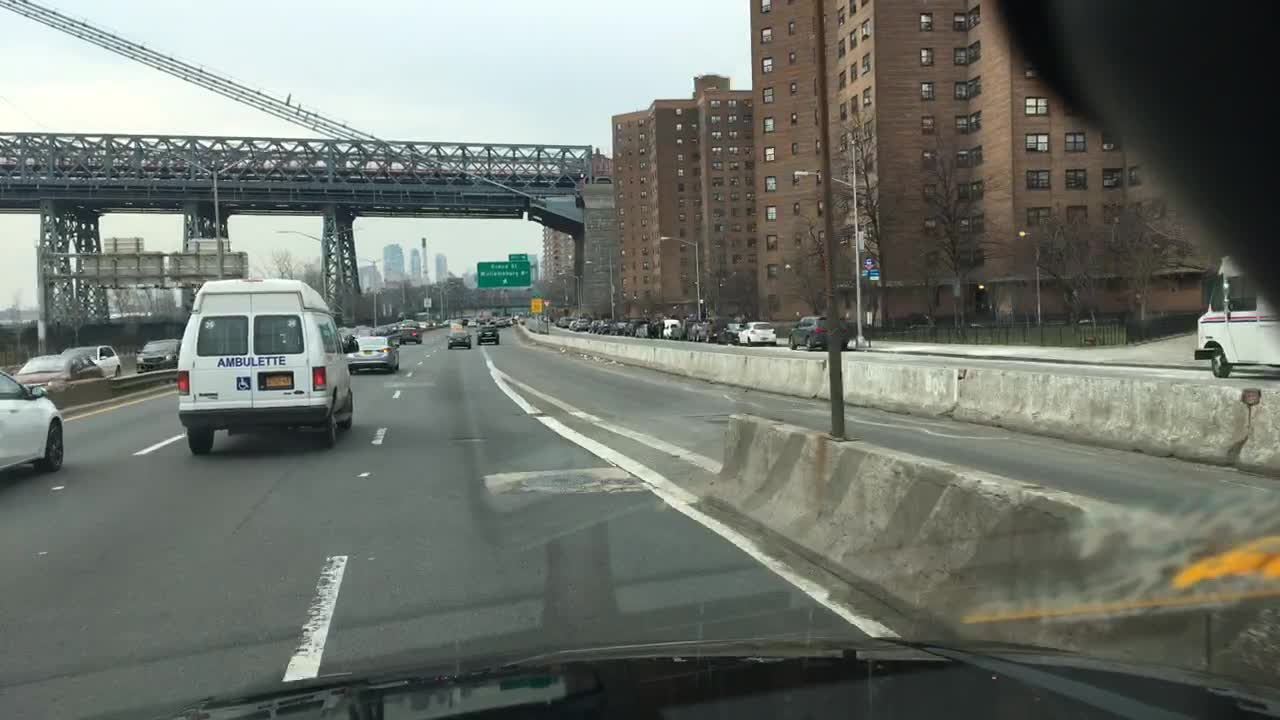car: (174, 275, 352, 447), (1190, 252, 1279, 379), (0, 367, 66, 481), (9, 353, 104, 391), (787, 314, 852, 353), (58, 343, 127, 377), (347, 334, 402, 374), (131, 337, 187, 374), (735, 319, 782, 346), (702, 314, 735, 342), (444, 327, 476, 349), (396, 321, 423, 344), (473, 324, 500, 347), (717, 322, 743, 343), (663, 318, 684, 338), (684, 318, 700, 341), (629, 316, 650, 333), (649, 322, 665, 339), (573, 317, 590, 332), (612, 319, 628, 334), (637, 322, 653, 337), (557, 314, 573, 327), (600, 317, 612, 334), (494, 314, 508, 328), (590, 317, 602, 332), (418, 322, 432, 332), (464, 318, 477, 328)
traffic sign: (79, 253, 167, 291), (171, 250, 248, 287), (474, 260, 534, 289), (185, 236, 224, 253), (103, 236, 141, 251), (529, 297, 543, 314), (867, 268, 882, 283), (508, 251, 526, 261), (422, 297, 433, 309)
